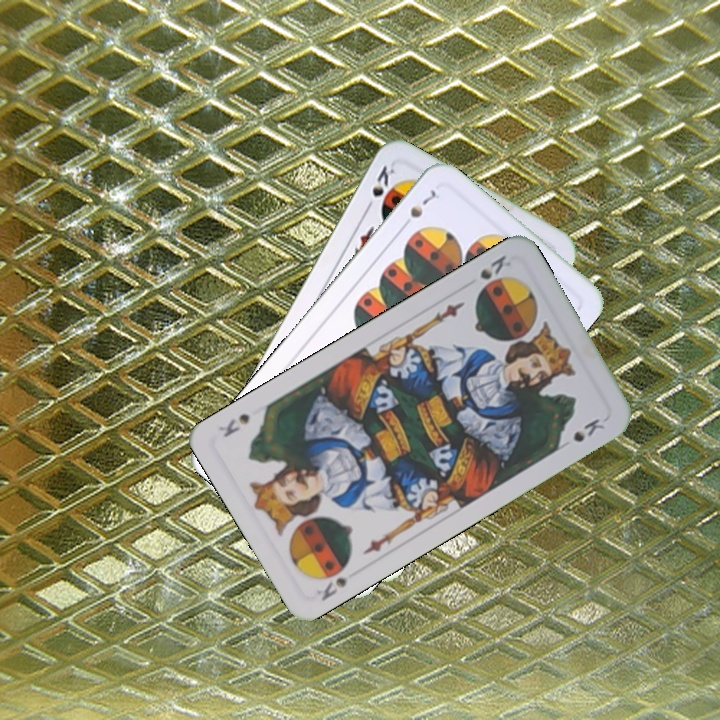S7: (397, 185, 439, 232)
SK: (360, 161, 398, 215), (308, 573, 352, 604), (475, 251, 514, 283)
